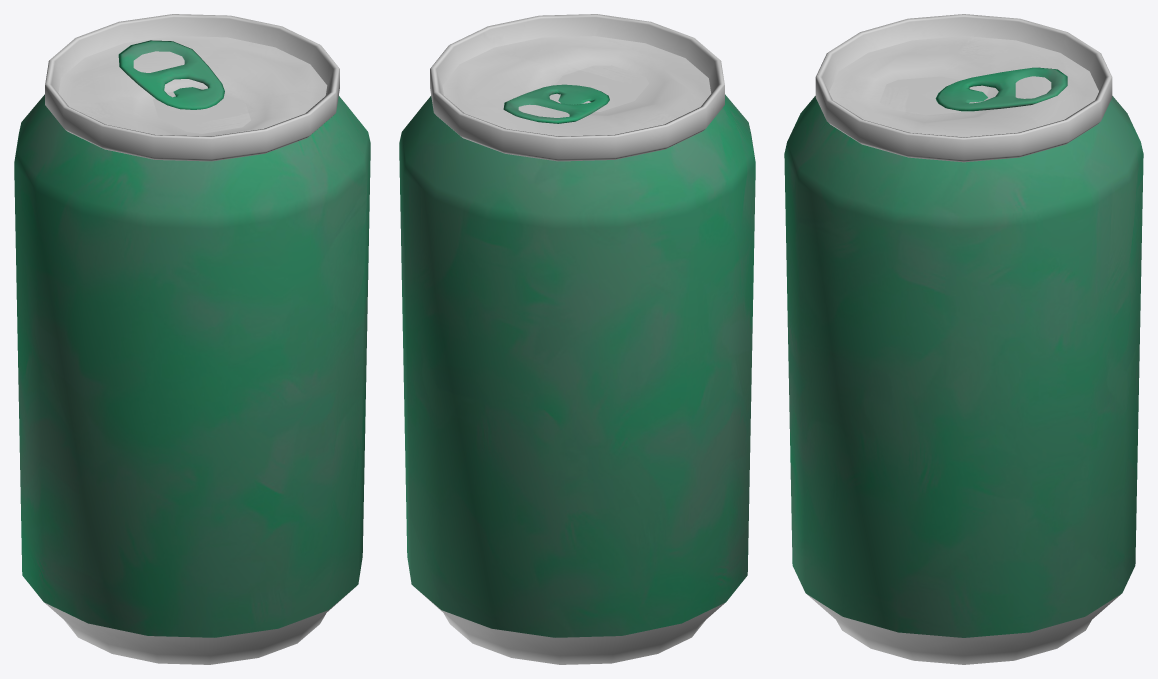
Rendered from beer_can.glb.
The picture shows the model from 3 angles, left to right: view 1: azimuth 30°, elevation 25°; view 2: azimuth 150°, elevation 25°; view 3: azimuth 270°, elevation 25°; orthographic projection.
Visible parts, largest first — view 1: Cylinder.001; view 2: Cylinder.001; view 3: Cylinder.001.
Boxes of the visible parts, x1,y1,x2,y2 form: Cylinder.001: (14,14,370,664); Cylinder.001: (399,14,755,664); Cylinder.001: (784,14,1143,664).
Bounding box in the file's own units: 171 × 280 × 171.
Materials: 2 (2 with a texture image).
